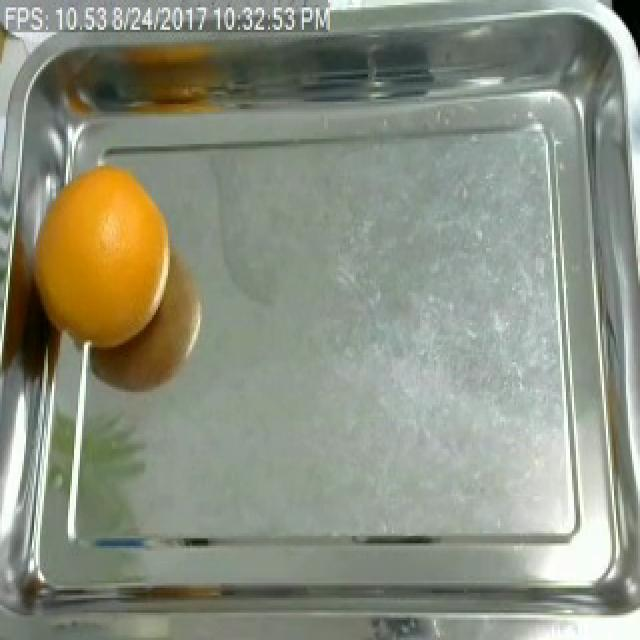Fruit: (26, 154, 176, 355)
